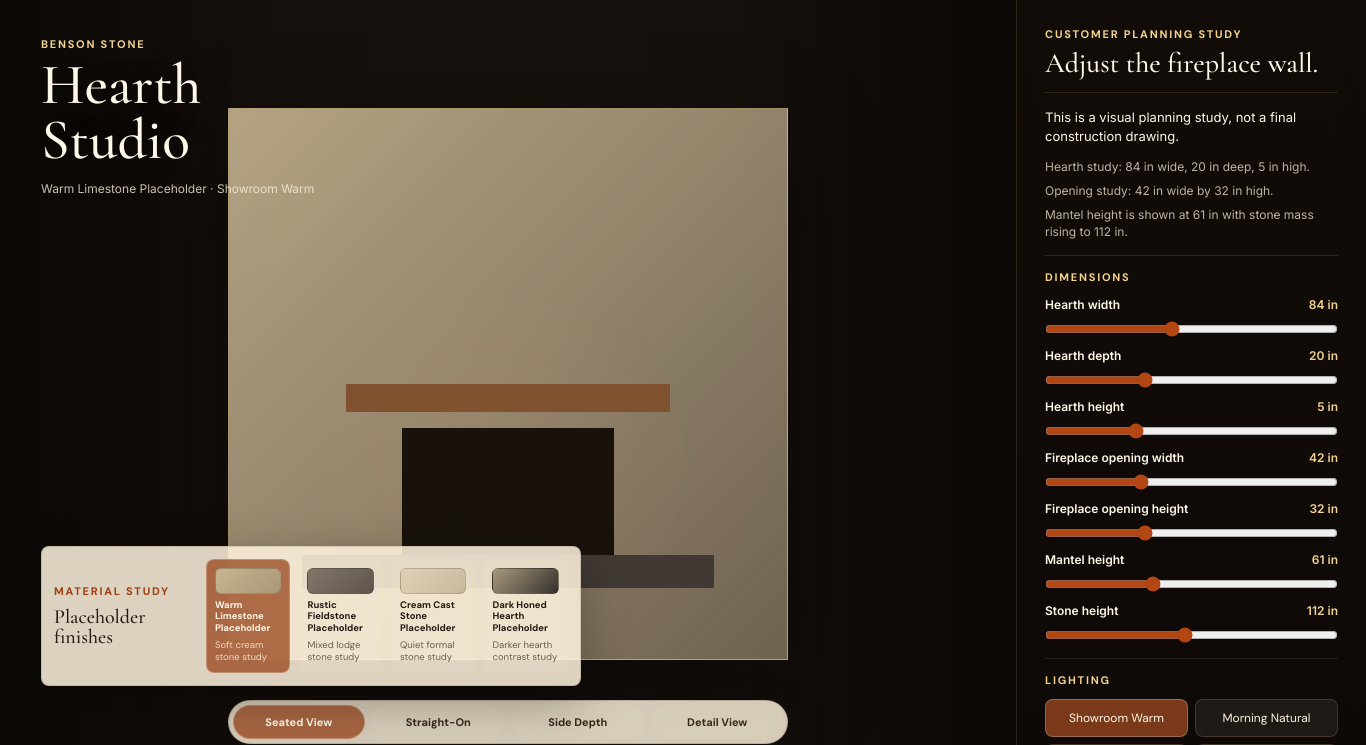
it: V9 Hearth Studio proof screen › updates the visible dimensional study from live controls
Set the slider labelled "Hearth width" to "96": (1211, 329) [1045,321,1338,337]
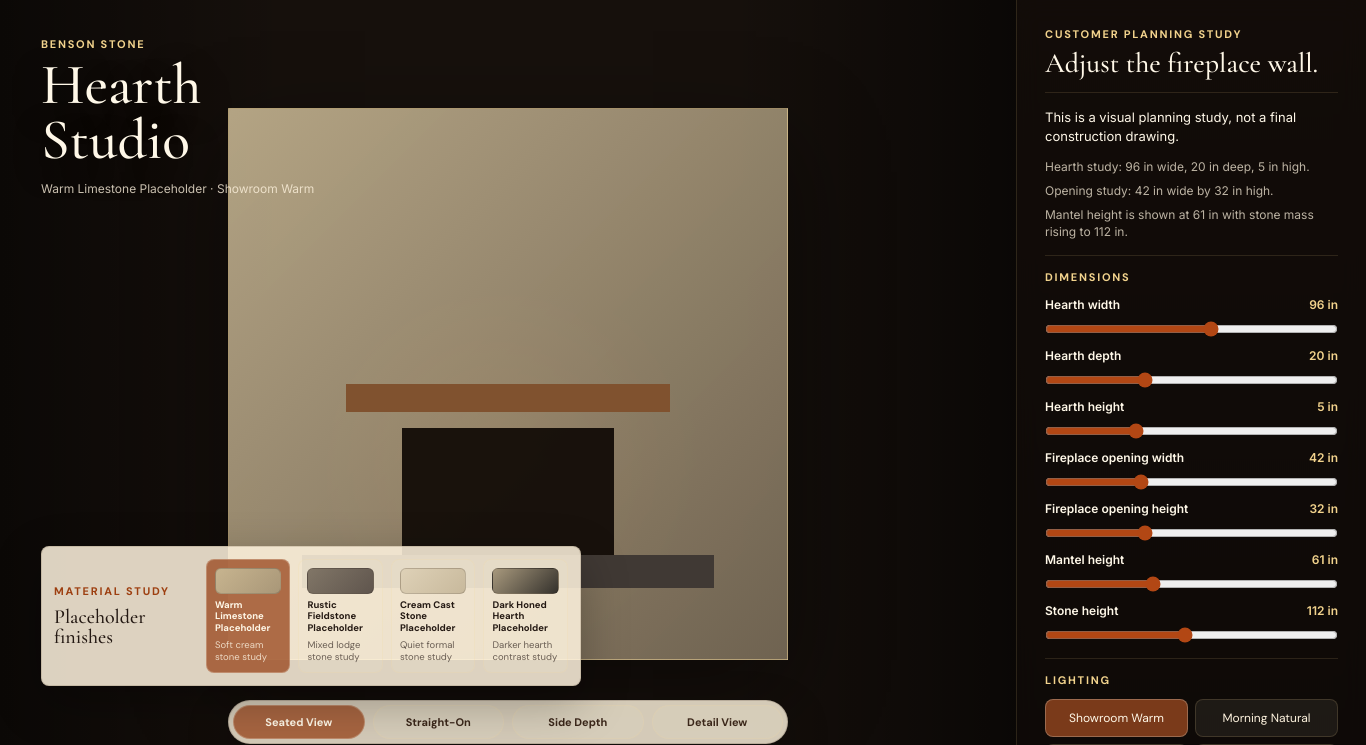
Set the slider labelled "Hearth depth" to "24": (1192, 380) [1045,372,1338,388]
Set the slider labelled "Hearth height" to "6": (1164, 431) [1045,423,1338,439]
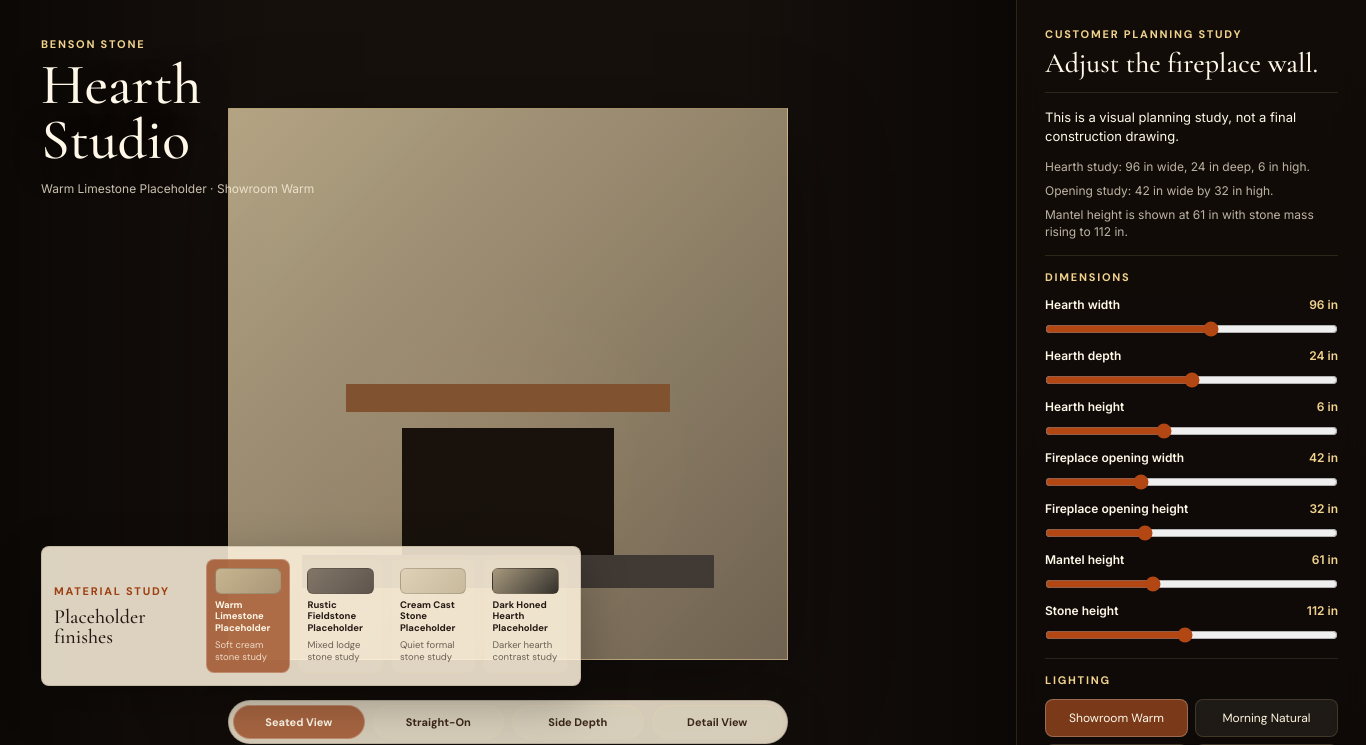
Set the slider labelled "Fireplace opening width" to "48": (1179, 482) [1045,474,1338,490]
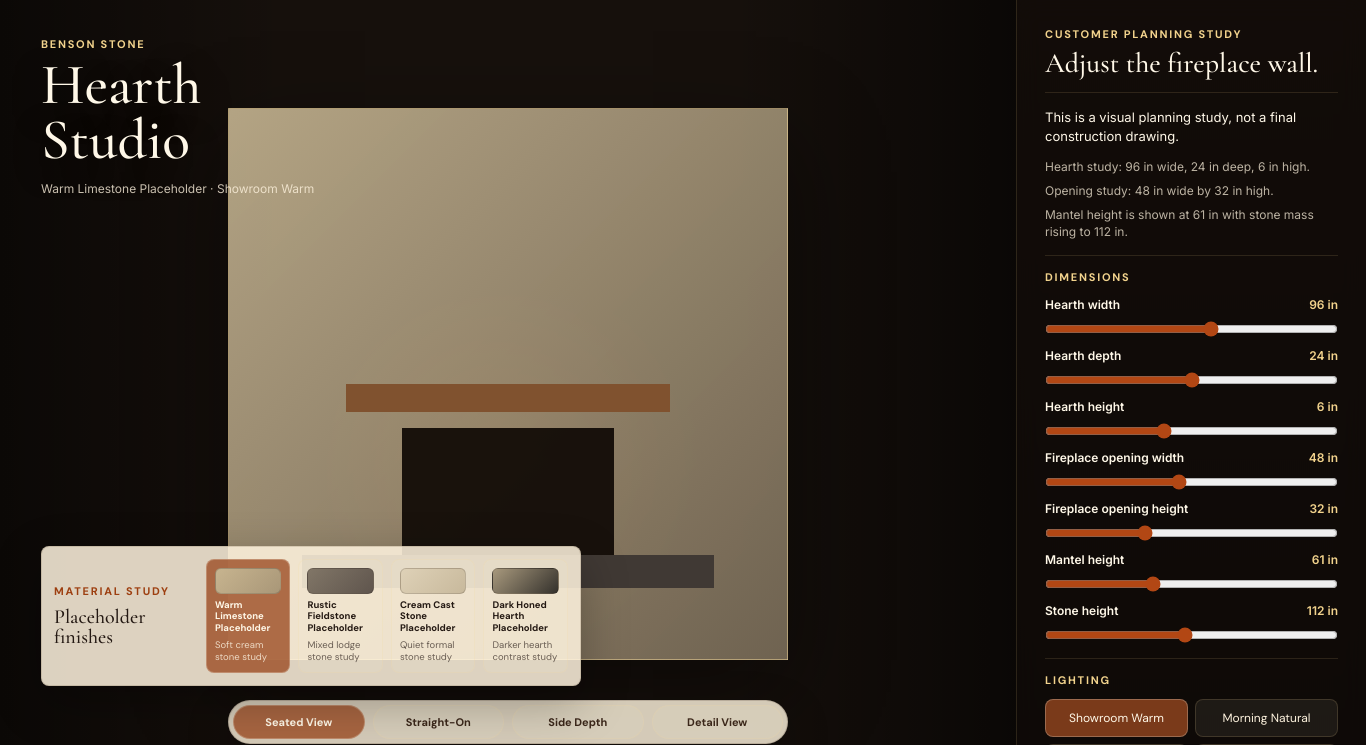
Set the slider labelled "Fireplace opening height" to "36": (1176, 533) [1045,525,1338,541]
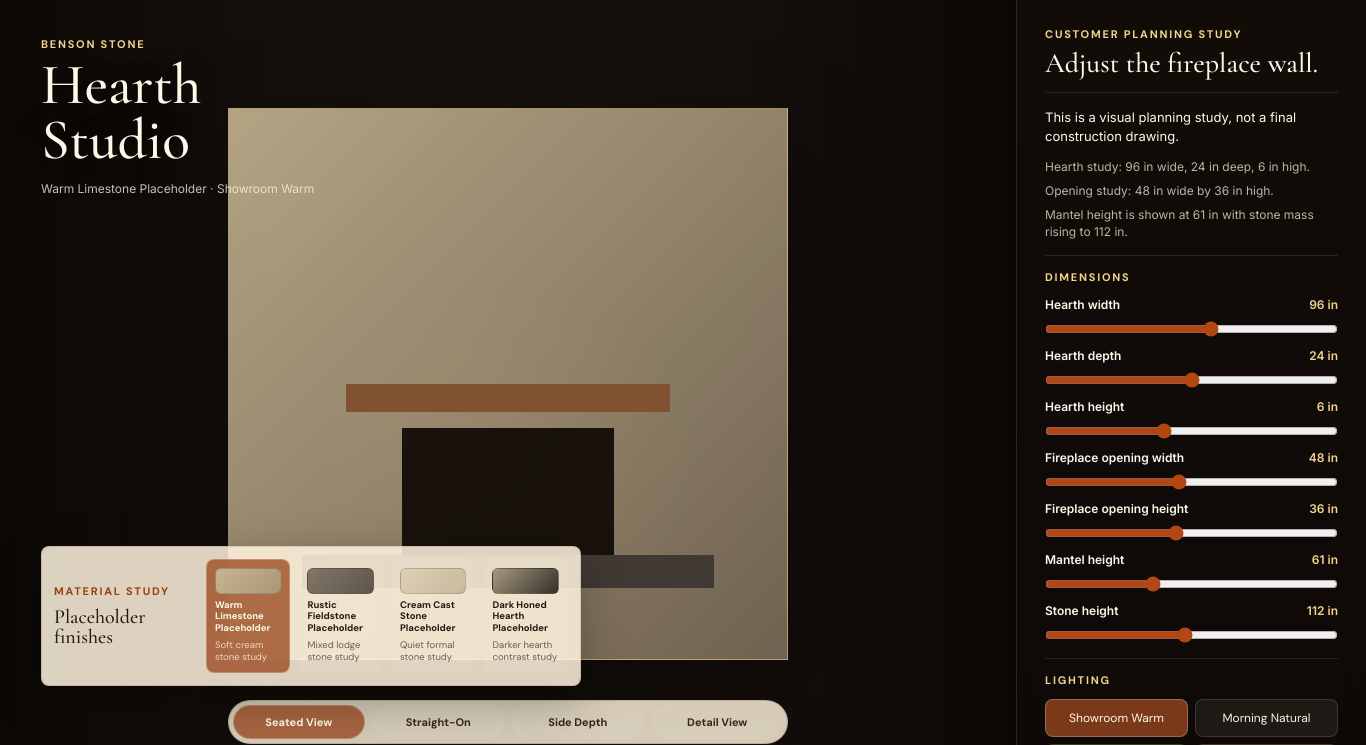
Set the slider labelled "Mantel height" to "66": (1192, 584) [1045,576,1338,592]
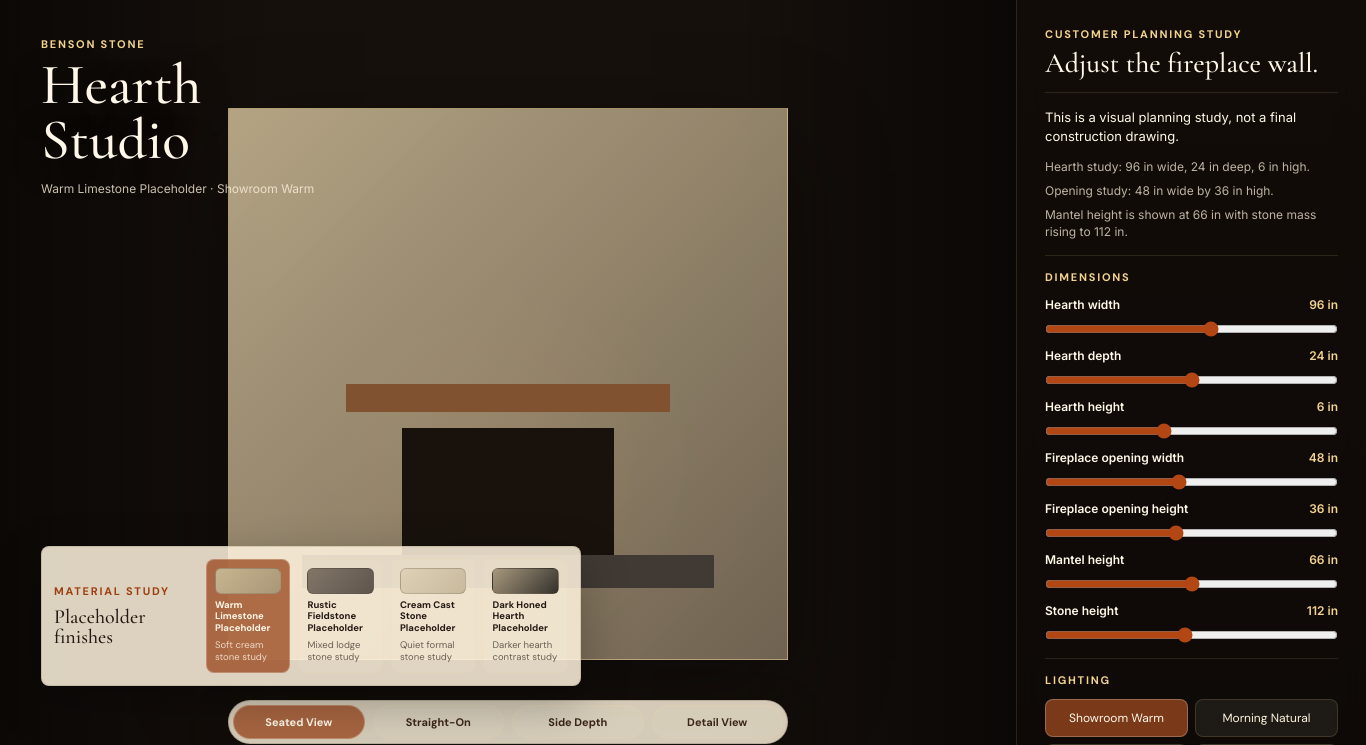
Set the slider labelled "Stone height" to "120": (1211, 635) [1045,627,1338,643]
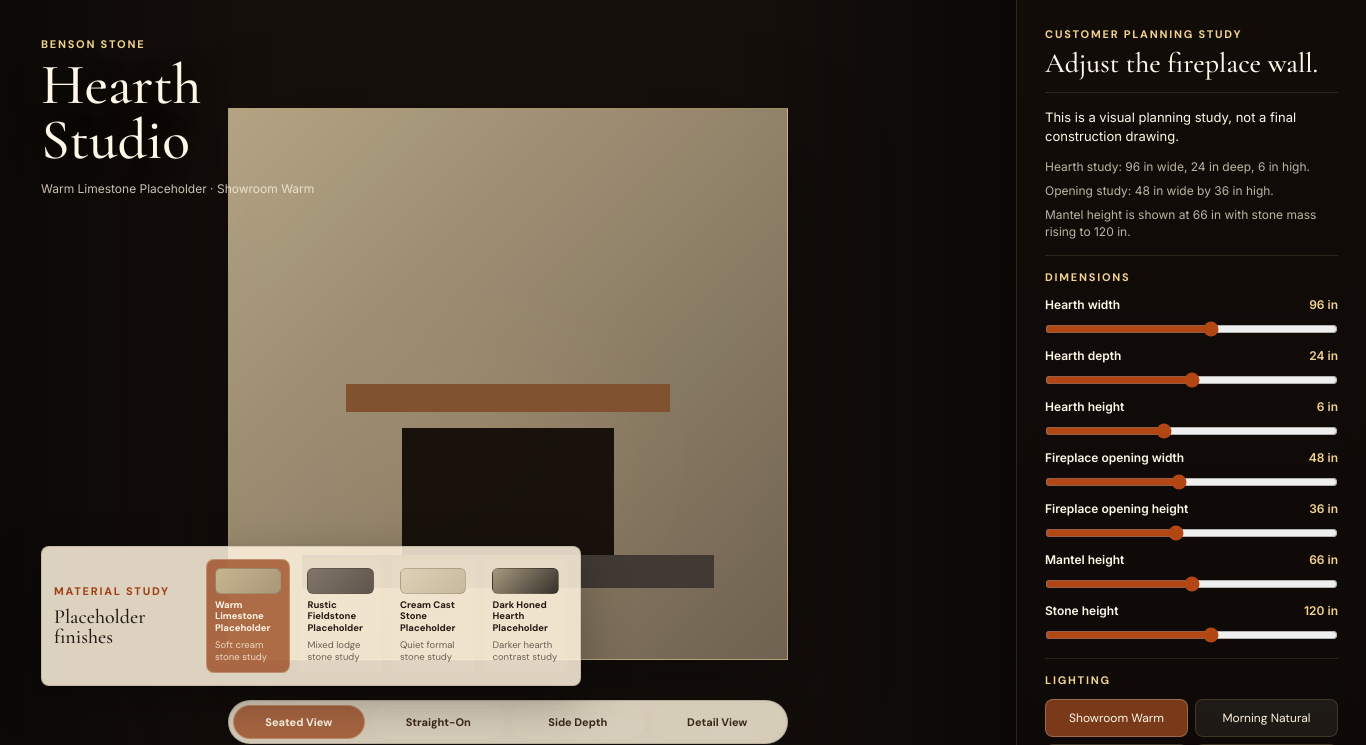
Expected: the list item "Hearth study: 96 in wide, 24 in deep, 6 in high." is shown, [1045,158,1338,175]
Expected: the list item "Opening study: 48 in wide by 36 in high." is shown, [1045,183,1274,198]
Expected: the list item "Mantel height is shown at 66 in with stone mass rising to 120 in." is shown, [1045,206,1338,240]
